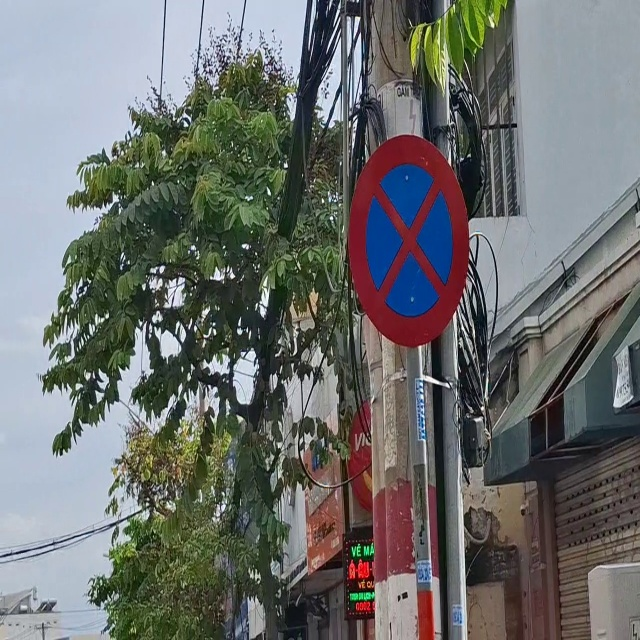cam dung cam do: (329, 130, 488, 360)
